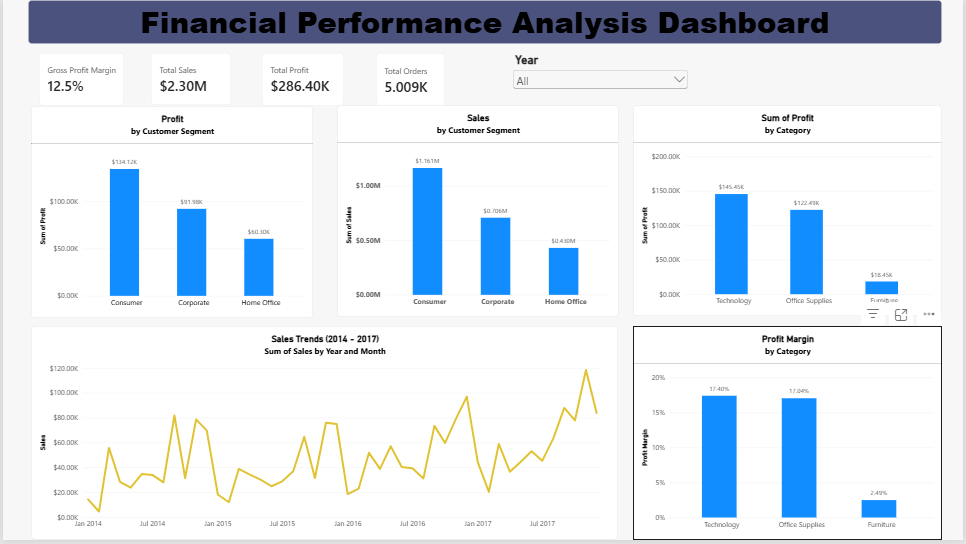

The dashboard page shown, as its layout file describes it:
{"tool":"powerbi","page":{"name":"Page 1","canvas":[1920,1080],"ordinal":0},"visuals":[{"type":"cardVisual","title":"Gross Profit Margin","fields":{"Data":["superstore_subset_cleaned.Gross Profit Margin"]},"box":[72.9,105.7,170,105],"z":0},{"type":"textbox","box":[50,0,1827.5,87.5],"z":1000},{"type":"cardVisual","fields":{"Data":["Sum(superstore_subset_cleaned.Sales)"]},"box":[296,106,160,104],"z":2000},{"type":"cardVisual","fields":{"Data":["Sum(superstore_subset_cleaned.Profit)"]},"box":[518,106,164,106],"z":3000},{"type":"cardVisual","fields":{"Data":["Count(superstore_subset_cleaned.Order ID)"]},"box":[745,105,137.5,107.5],"z":4000},{"type":"clusteredColumnChart","title":"Profit ","fields":{"Category":["superstore_subset_cleaned.Segment"],"Y":["Sum(superstore_subset_cleaned.Profit)"]},"box":[56,212,564.5,423.7],"z":5000},{"type":"clusteredColumnChart","title":"Sales","fields":{"Category":["superstore_subset_cleaned.Segment"],"Y":["Sum(superstore_subset_cleaned.Sales)"]},"box":[667.1,210.5,563.2,423.7],"z":6000},{"type":"lineChart","title":"Sales Trends (2014 - 2017)","fields":{"Category":["superstore_subset_cleaned.Order Date.Variation.Date Hierarchy.Year","superstore_subset_cleaned.Order Date.Variation.Date Hierarchy.Month"],"Y":["Sum(superstore_subset_cleaned.Sales)"]},"box":[55.7,652.9,1174.3,427.1],"z":7000},{"type":"clusteredColumnChart","fields":{"Category":["superstore_subset_cleaned.Category"],"Y":["Sum(superstore_subset_cleaned.Profit)"]},"box":[1260,210,617.1,422.4],"z":8000},{"type":"clusteredColumnChart","fields":{"Category":["superstore_subset_cleaned.Category"],"Y":["superstore_subset_cleaned.Profit Margin"]},"box":[1260,652,618,428],"z":9000},{"type":"slicer","fields":{"Values":["superstore_subset_cleaned.Order Date.Variation.Date Hierarchy.Year"]},"box":[1016,106,358.3,105],"z":10000}]}

Visuals, with their boxes in screenshot pixels (x1, y1, x2, y2), scaled from the page's 1920x1080 canvas onto the 966x544 screenshot:
"Gross Profit Margin" cardVisual: (left=37, top=53, right=122, bottom=106)
textbox: (left=25, top=0, right=945, bottom=44)
cardVisual - Sum(superstore_subset_cleaned.Sales): (left=149, top=53, right=229, bottom=106)
cardVisual - Sum(superstore_subset_cleaned.Profit): (left=261, top=53, right=343, bottom=107)
cardVisual - Count(superstore_subset_cleaned.Order ID): (left=375, top=53, right=444, bottom=107)
"Profit " clusteredColumnChart: (left=28, top=107, right=312, bottom=320)
"Sales" clusteredColumnChart: (left=336, top=106, right=619, bottom=319)
"Sales Trends (2014 - 2017)" lineChart: (left=28, top=329, right=619, bottom=543)
clusteredColumnChart - superstore_subset_cleaned.Category x Sum(superstore_subset_cleaned.Profit): (left=634, top=106, right=944, bottom=319)
clusteredColumnChart - superstore_subset_cleaned.Category x superstore_subset_cleaned.Profit Margin: (left=634, top=328, right=945, bottom=543)
slicer - superstore_subset_cleaned.Order Date.Variation.Date Hierarchy.Year: (left=511, top=53, right=691, bottom=106)
